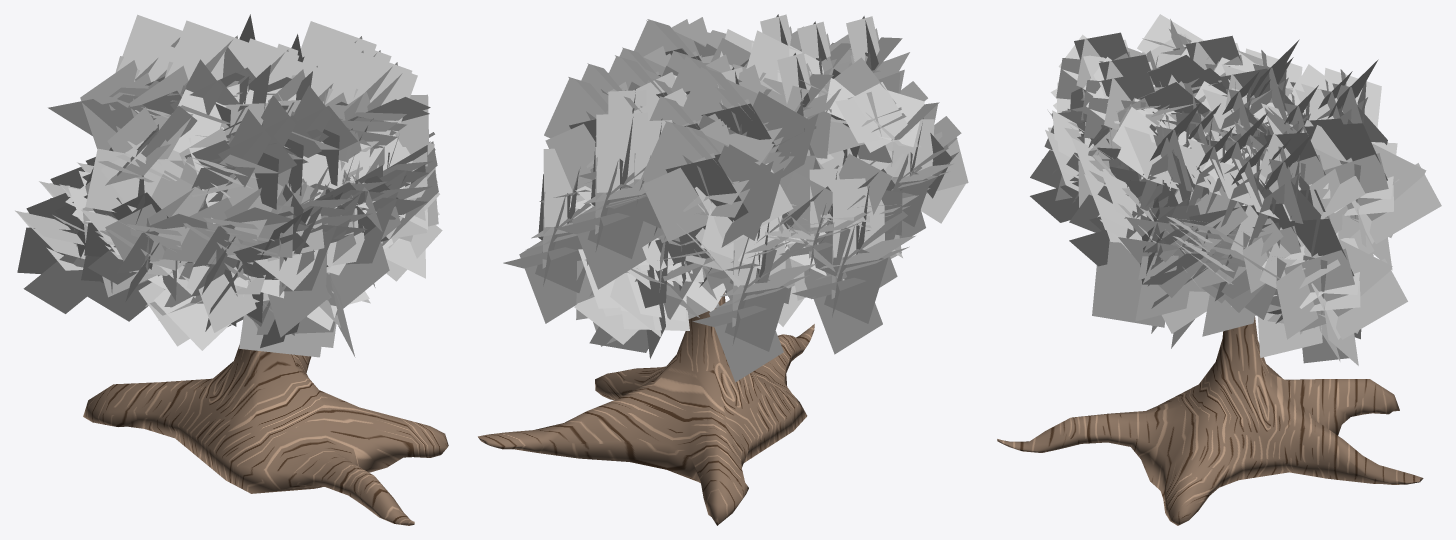
Rendered from Cave Tree 1.fbx.
3 views of the same model, side by side, from view 1: azimuth 30°, elevation 25°; view 2: azimuth 150°, elevation 25°; view 3: azimuth 270°, elevation 25° (orthographic). The views are drawn at different scales.
Visible parts, largest first — view 1: polySurface3464, polySurface3991; view 2: polySurface3464, polySurface3991; view 3: polySurface3464, polySurface3991.
Part boxes in pixels (bbox=[...]): polySurface3464: bbox=[15, 14, 442, 357]; polySurface3991: bbox=[83, 345, 448, 525]; polySurface3464: bbox=[503, 14, 968, 382]; polySurface3991: bbox=[478, 281, 814, 525]; polySurface3464: bbox=[1030, 14, 1441, 365]; polySurface3991: bbox=[997, 316, 1423, 525].
Bounding box in the file's own units: 16.84 × 18.26 × 18.35.
